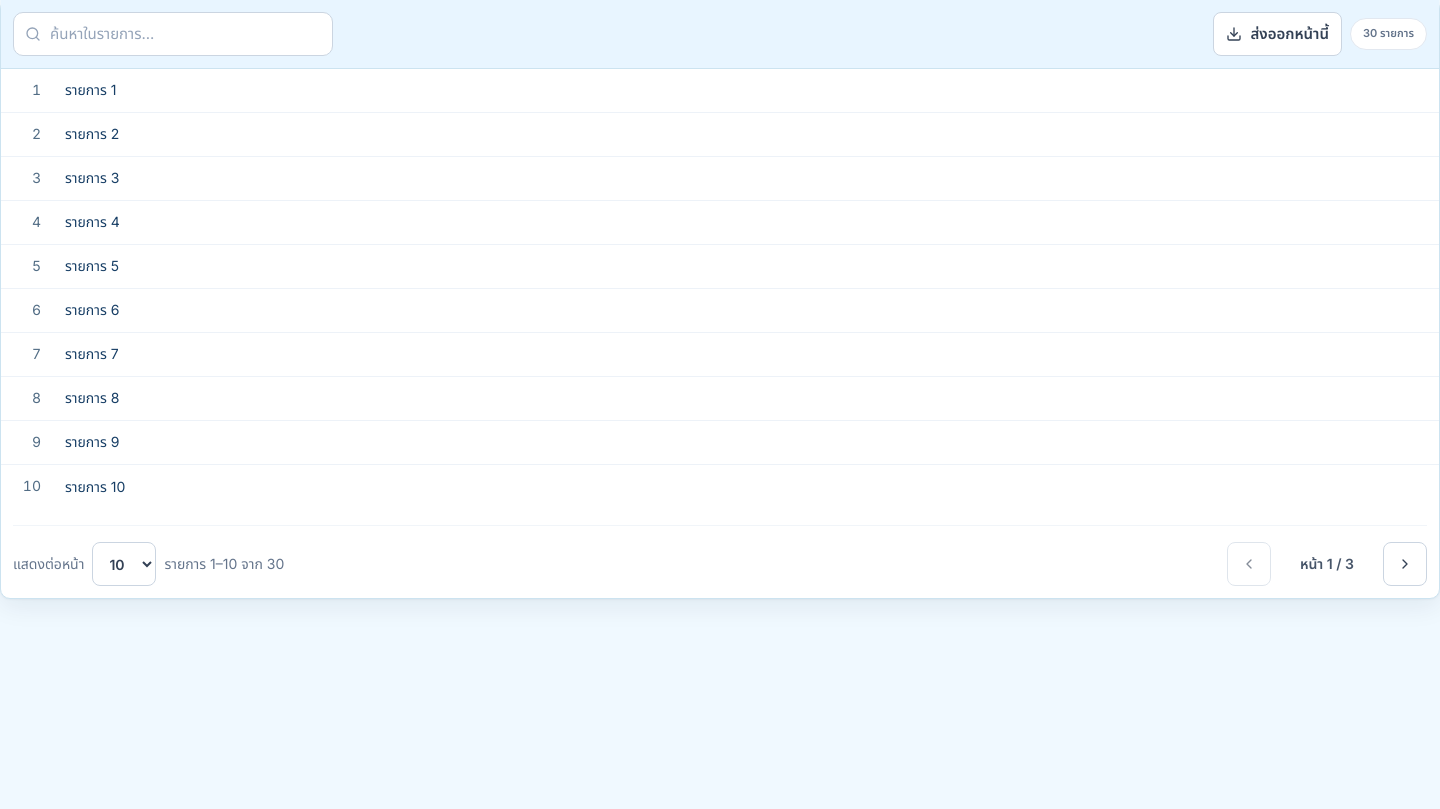
DataTable › supports the standard page-size choices
Select "25" in the dropdown named "จำนวนรายการต่อหน้า" at (124, 564), box [92,542,156,586]
(page scrolled)
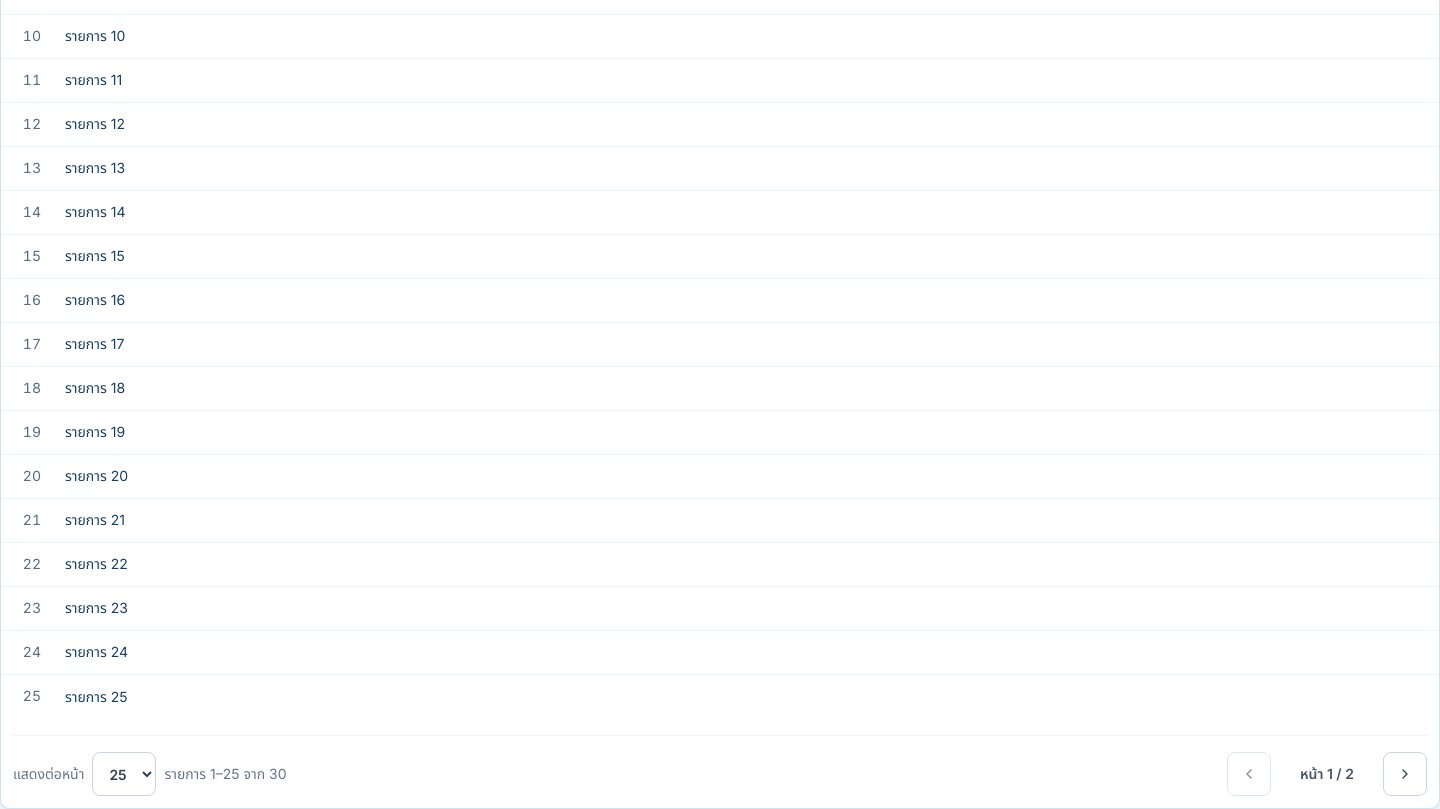
Now the text "รายการ 1–25 จาก 30" is shown, box [164,763,286,785]
Now the text "รายการ 25" is shown, box [65,688,128,705]
